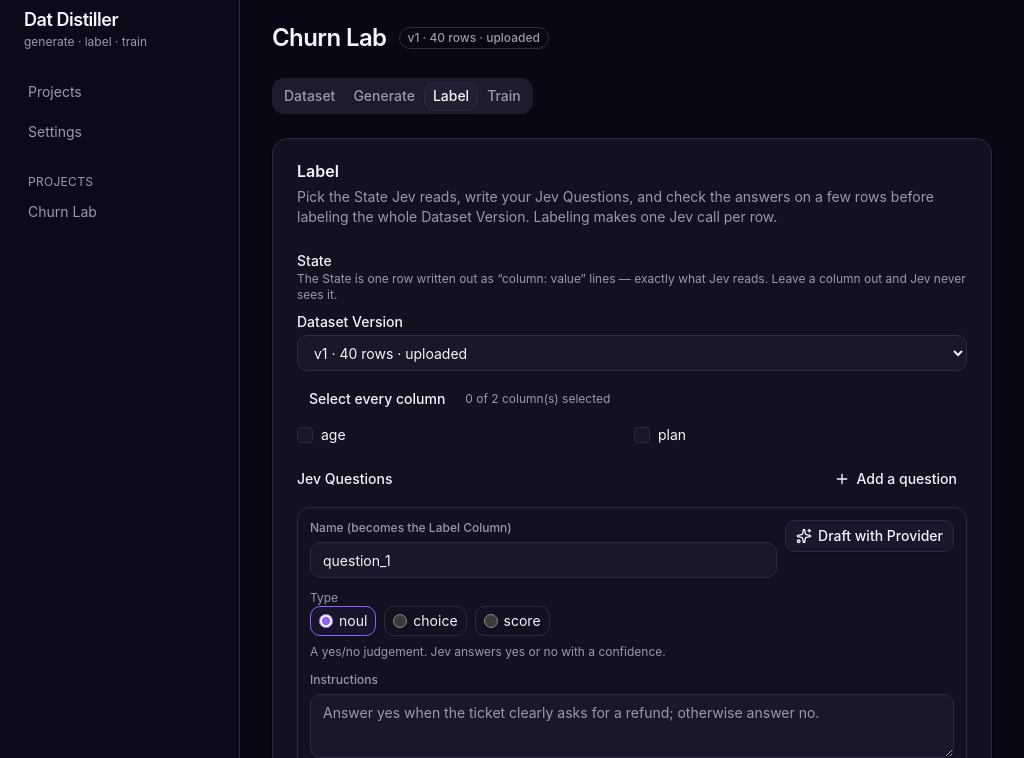
Scenario: Label step — building questions by hand › refuses a non-snake_case name, because it becomes a column
The width and height of the screenshot is (1024, 758).
Replace the text in the field labelled "Name (becomes the Label Column)" with "Is Churn" at {"x": 544, "y": 560}, box [310,542,777,578]
(page scrolled)
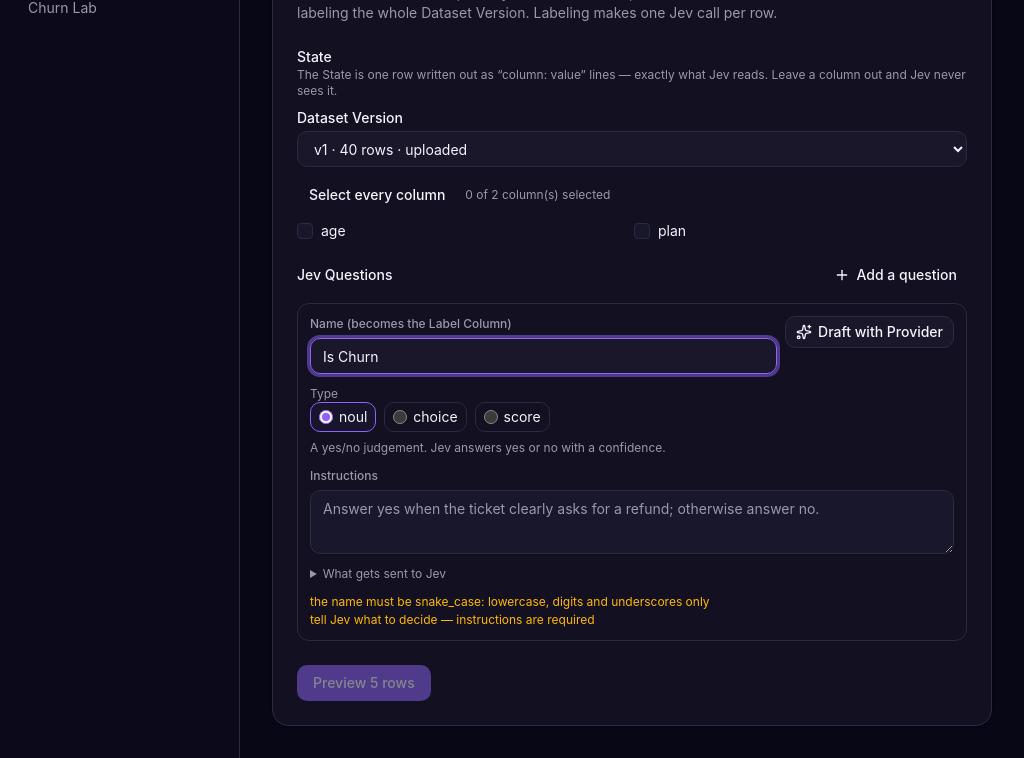
Expected: the message shows "snake_case", [310,594,710,609]
